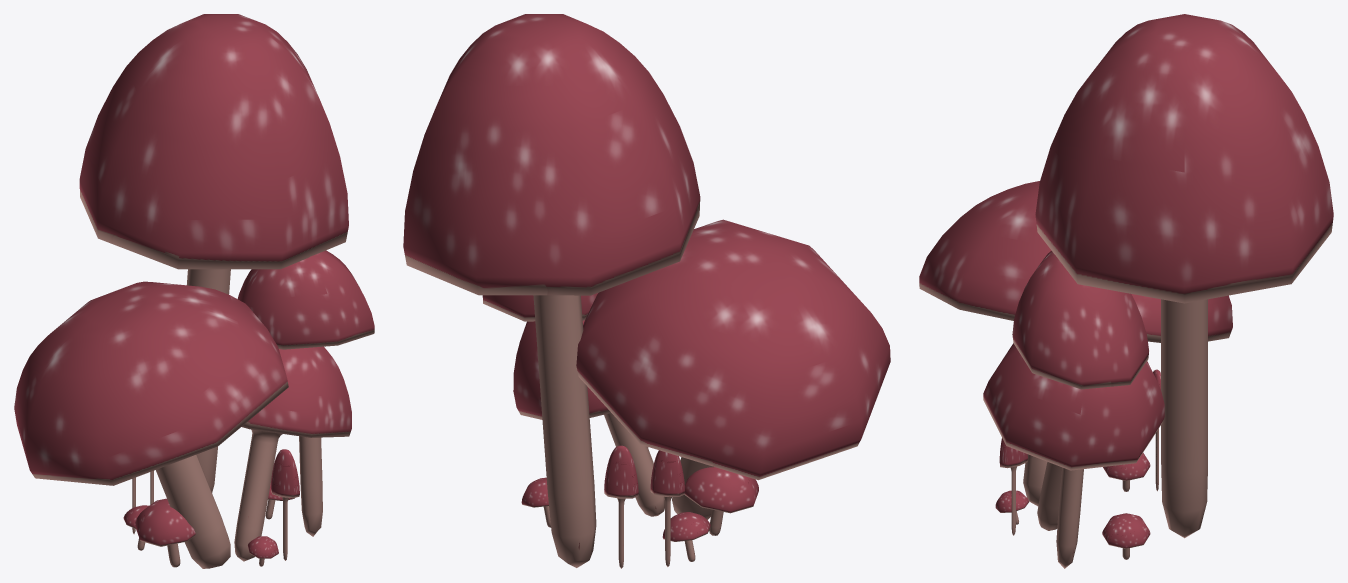
File: RedMushroomCluster.fbx
3 views of the same model, side by side, from view 1: azimuth 30°, elevation 25°; view 2: azimuth 150°, elevation 25°; view 3: azimuth 270°, elevation 25° (orthographic). The views are drawn at different scales.
Visible parts, largest first — view 1: MushroomCluster.001; view 2: MushroomCluster.001; view 3: MushroomCluster.001.
Part boxes in pixels (<box>): MushroomCluster.001: <box>14,14,374,568</box>; MushroomCluster.001: <box>403,14,890,568</box>; MushroomCluster.001: <box>919,14,1333,568</box>.
Bounding box in the file's own units: 219 × 290 × 207.
